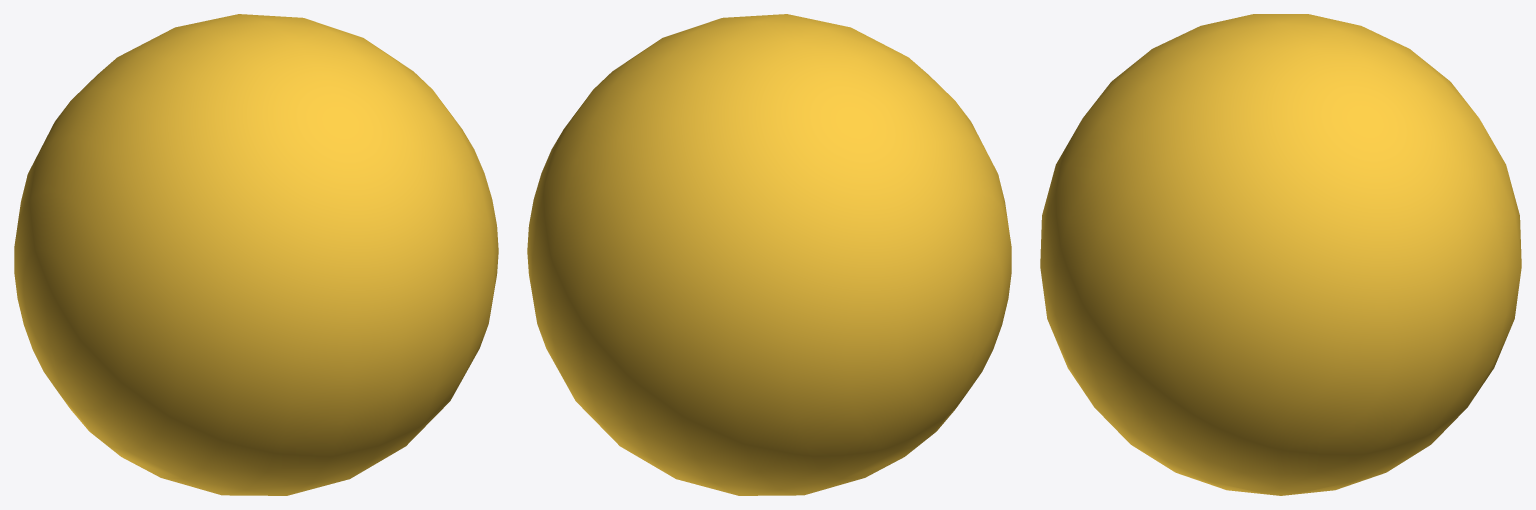
File: piece.glb
3 renders of one model, left to right at view 1: azimuth 30°, elevation 25°; view 2: azimuth 150°, elevation 25°; view 3: azimuth 270°, elevation 25°, orthographic.
Parts seen in each view (by area): view 1: GE-26900: Fuel; view 2: GE-26900: Fuel; view 3: GE-26900: Fuel.
Part boxes in pixels (<box>): GE-26900: Fuel: <box>14,14,498,495</box>; GE-26900: Fuel: <box>527,14,1011,495</box>; GE-26900: Fuel: <box>1040,14,1521,495</box>.
Bounding box in the file's own units: 0.15 × 0.1495 × 0.1489.
